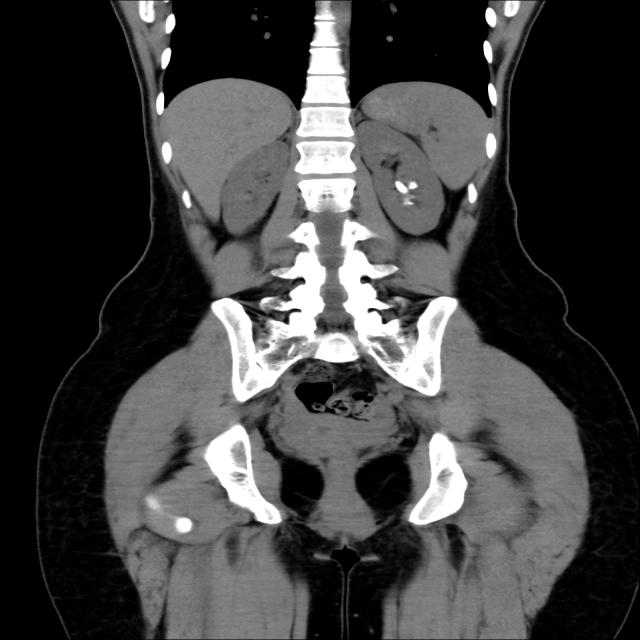kidneystone: (394, 180, 418, 194)
